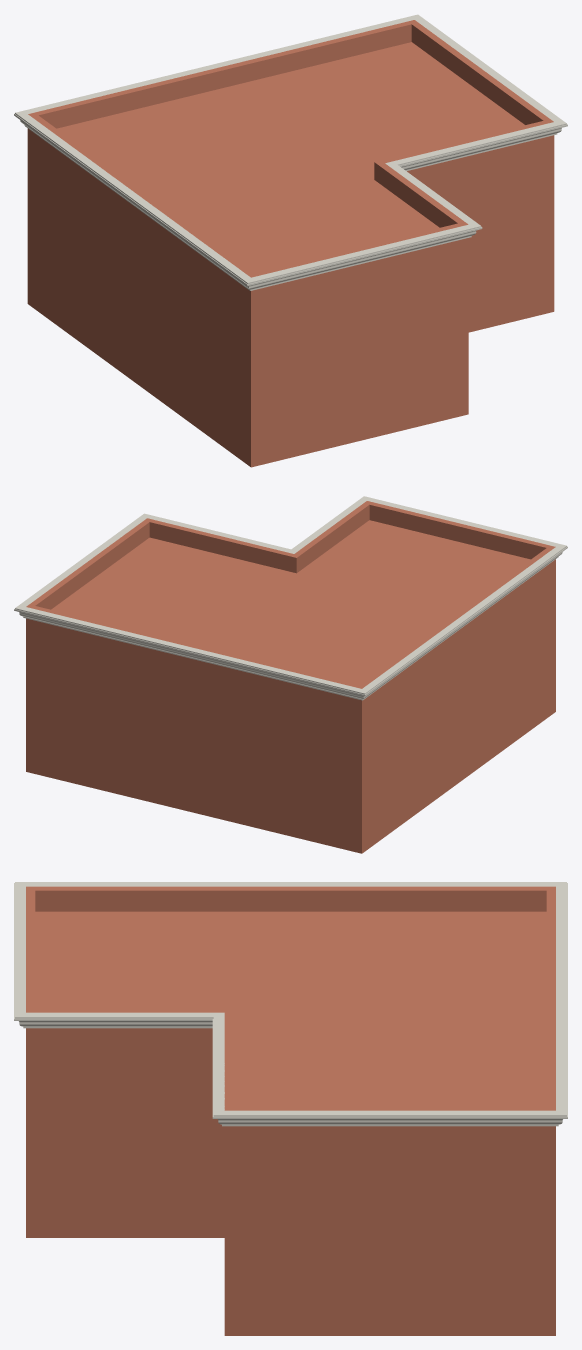
The model's file is building.glb.
3 renders of one model, top to bottom at view 1: azimuth 30°, elevation 25°; view 2: azimuth 150°, elevation 25°; view 3: azimuth 270°, elevation 25°, orthographic. The views are drawn at different scales.
Visible parts, largest first — view 1: roof/body:0/roof_slab#0001, body:0/edge5/z0/body:0/edge5/z0/wall_0_0, body:0/edge0/z0/body:0/edge0/z0/wall_0_0, roof/body:0/parapet#0001, body:0/edge2/z0/body:0/edge2/z0/wall_0_0, trim/cornice/0/trim_cornice#0001, body:0/edge4/z0/body:0/edge4/z0/wall_0_0; view 2: body:0/edge4/z0/body:0/edge4/z0/wall_0_0, roof/body:0/roof_slab#0001, body:0/edge5/z0/body:0/edge5/z0/wall_0_0, roof/body:0/parapet#0001, trim/cornice/0/trim_cornice#0001, body:0/edge3/z0/body:0/edge3/z0/wall_0_0, body:0/edge0/z0/body:0/edge0/z0/wall_0_0; view 3: roof/body:0/roof_slab#0001, body:0/edge3/z0/body:0/edge3/z0/wall_0_0, body:0/edge1/z0/body:0/edge1/z0/wall_0_0, roof/body:0/parapet#0001, trim/cornice/0/trim_cornice#0001, body:0/edge0/z0/body:0/edge0/z0/wall_0_0, body:0/edge2/z0/body:0/edge2/z0/wall_0_0, body:0/edge4/z0/body:0/edge4/z0/wall_0_0, body:0/edge5/z0/body:0/edge5/z0/wall_0_0.
Boxes of the visible parts, x1,y1,x2,y2 form: roof/body:0/roof_slab#0001: (28,43,553,300); body:0/edge5/z0/body:0/edge5/z0/wall_0_0: (27,132,260,466); body:0/edge0/z0/body:0/edge0/z0/wall_0_0: (245,242,468,467); roof/body:0/parapet#0001: (27,20,554,295); body:0/edge2/z0/body:0/edge2/z0/wall_0_0: (411,140,554,332); trim/cornice/0/trim_cornice#0001: (14,14,567,290); body:0/edge4/z0/body:0/edge4/z0/wall_0_0: (27,42,410,307); body:0/edge4/z0/body:0/edge4/z0/wall_0_0: (26,622,366,853); roof/body:0/roof_slab#0001: (35,521,550,709); body:0/edge5/z0/body:0/edge5/z0/wall_0_0: (353,566,555,853); roof/body:0/parapet#0001: (26,501,555,704); trim/cornice/0/trim_cornice#0001: (14,496,567,700); body:0/edge3/z0/body:0/edge3/z0/wall_0_0: (26,538,150,773); body:0/edge0/z0/body:0/edge0/z0/wall_0_0: (368,520,555,714); roof/body:0/roof_slab#0001: (26,911,555,1142); body:0/edge3/z0/body:0/edge3/z0/wall_0_0: (224,1131,555,1335); body:0/edge1/z0/body:0/edge1/z0/wall_0_0: (26,1033,224,1237); roof/body:0/parapet#0001: (26,886,555,1131); trim/cornice/0/trim_cornice#0001: (14,882,567,1126); body:0/edge0/z0/body:0/edge0/z0/wall_0_0: (26,911,39,1237); body:0/edge2/z0/body:0/edge2/z0/wall_0_0: (224,1033,237,1335); body:0/edge4/z0/body:0/edge4/z0/wall_0_0: (542,911,555,1335); body:0/edge5/z0/body:0/edge5/z0/wall_0_0: (37,911,542,913).
Bounding box in the file's own units: 8.36 × 3.75 × 8.36.
